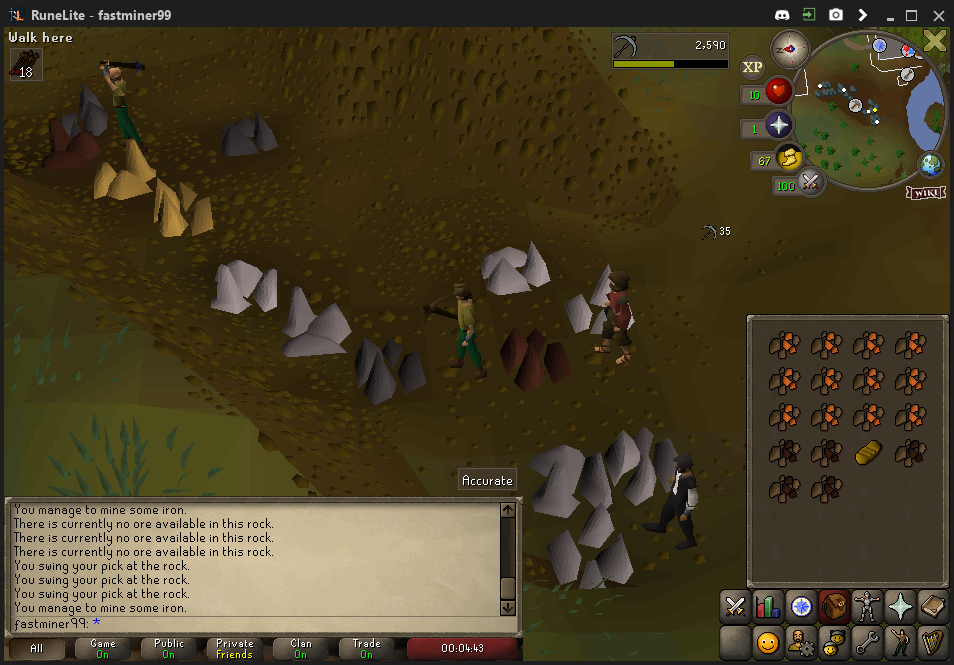depleted: (356, 332, 422, 399), (53, 81, 106, 136), (216, 115, 279, 158)
ore: (497, 326, 571, 390)
